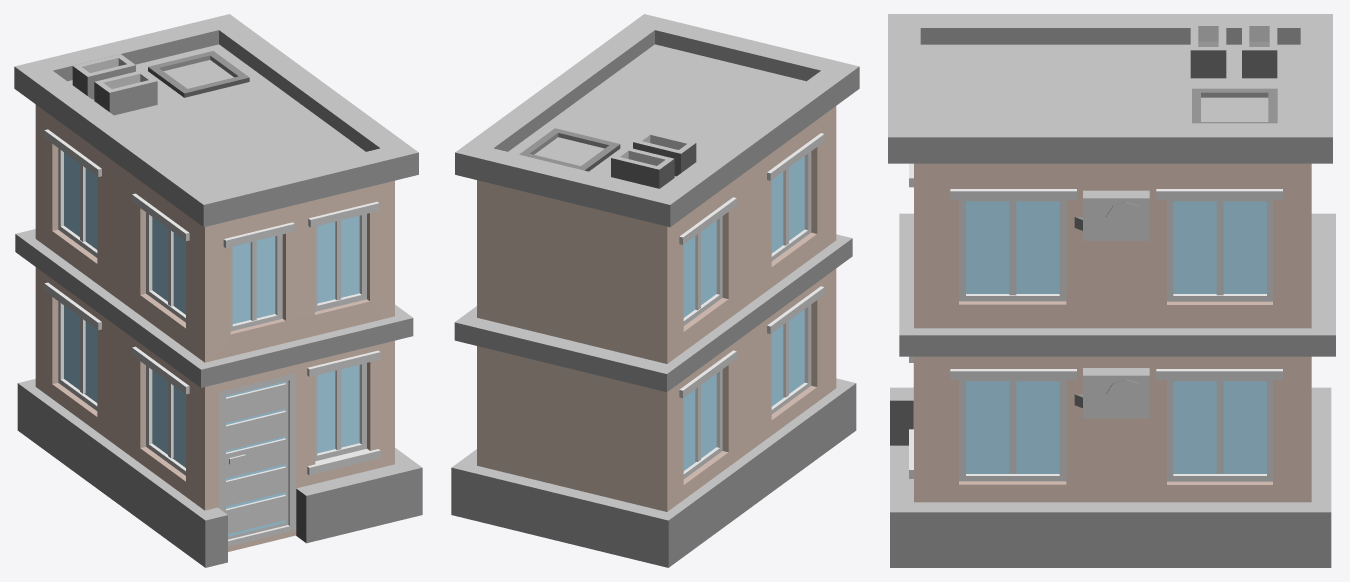
The model's file is house_small_1_007.fbx.
The picture shows the model from 3 angles, left to right: view 1: azimuth 30°, elevation 25°; view 2: azimuth 150°, elevation 25°; view 3: azimuth 270°, elevation 25°; orthographic projection. The views are drawn at different scales.
Visible parts, largest first — view 1: house_small_1_007; view 2: house_small_1_007; view 3: house_small_1_007.
Part boxes in pixels (bbox=[...]): house_small_1_007: bbox=[14, 14, 422, 567]; house_small_1_007: bbox=[451, 14, 859, 567]; house_small_1_007: bbox=[888, 14, 1335, 567].
Bounding box in the file's own units: 369 × 599 × 554.
